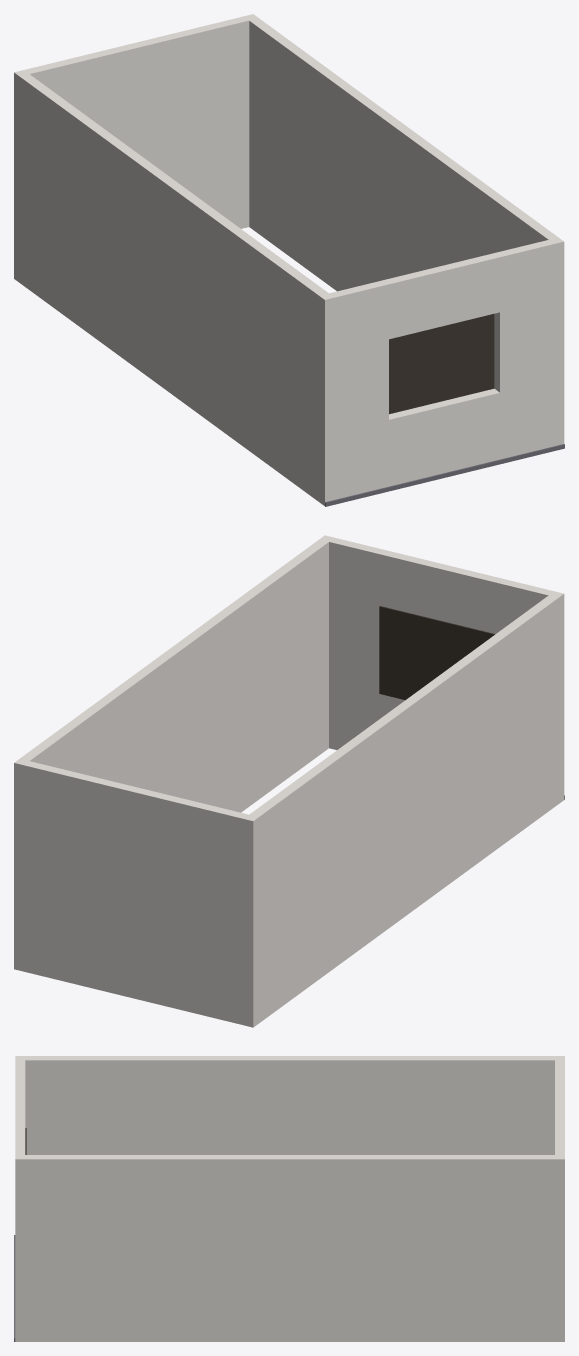
The model's file is SM_Floor_NarrowUpperWindow_White_364_01.gltf.
3 views of the same model, one above another, from view 1: azimuth 30°, elevation 25°; view 2: azimuth 150°, elevation 25°; view 3: azimuth 270°, elevation 25° (orthographic). The views are drawn at different scales.
Visible parts, largest first — view 1: SM_Floor_NarrowUpperWindow_White_364_01; view 2: SM_Floor_NarrowUpperWindow_White_364_01; view 3: SM_Floor_NarrowUpperWindow_White_364_01.
Part boxes in pixels (<box>): SM_Floor_NarrowUpperWindow_White_364_01: <box>14,14,564,506</box>; SM_Floor_NarrowUpperWindow_White_364_01: <box>14,535,564,1027</box>; SM_Floor_NarrowUpperWindow_White_364_01: <box>14,1056,564,1341</box>.
Size of the model in its own units: 3.64 by 3 by 8.21.
1 material, 1 textured.
